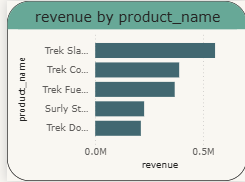

This screenshot's page, from the dashboard's own definition file:
{"tool":"powerbi","page":{"name":"tooltip","canvas":[320,240],"ordinal":3},"visuals":[{"type":"barChart","fields":{"Y":["Table.revenue"],"Category":["products.product_name"]},"box":[0,0,320,240],"z":0}]}

Visuals, with their boxes in screenshot pixels (x1, y1, x2, y2), scaled from the page's 320x240 canvas onto the 245x182 screenshot:
barChart - Table.revenue x products.product_name: x1=0 y1=0 x2=244 y2=181
